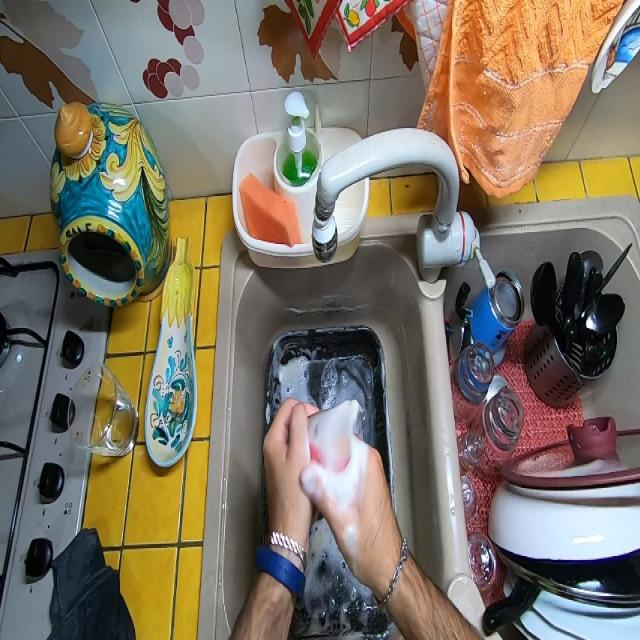glass: (67, 358, 135, 458), (473, 384, 519, 472)
left hand: (262, 388, 310, 568)
right hand: (309, 446, 404, 571)
sponge: (232, 162, 300, 242)
tap: (318, 128, 468, 294)
